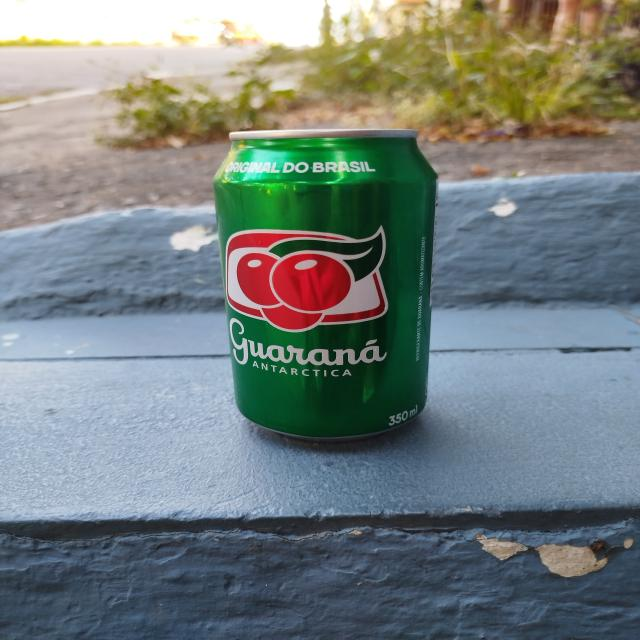Guarana: (226, 131, 445, 438)
